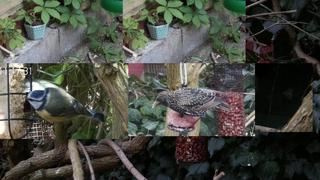blue tit: (24, 87, 104, 123)
starling: (152, 87, 231, 117)
